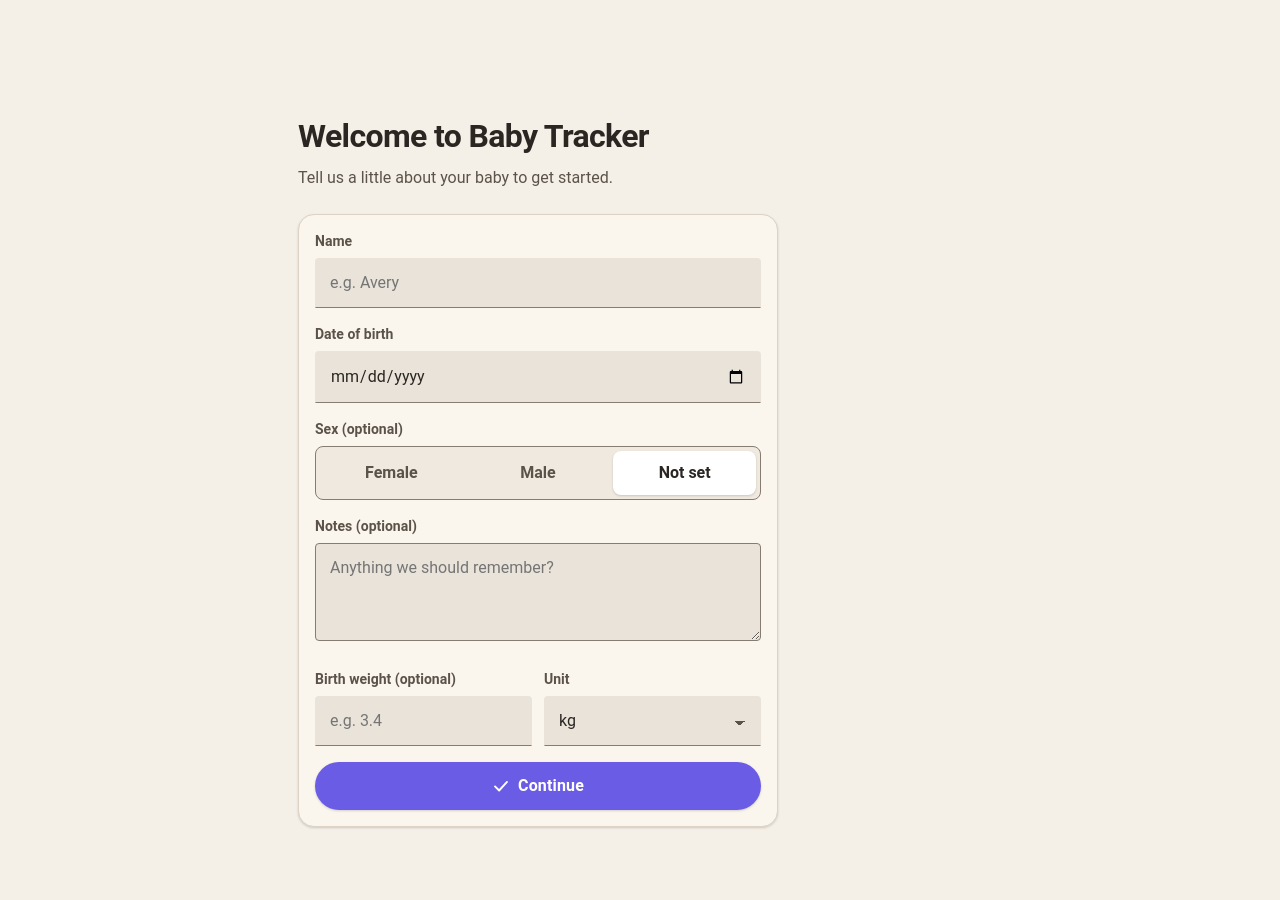
Physical back button › on-screen sub-screen back arrow matches physical back
Type "Avery" into the field labelled "Name".
click(538, 283); type("Avery")  # box [315,258,761,308]
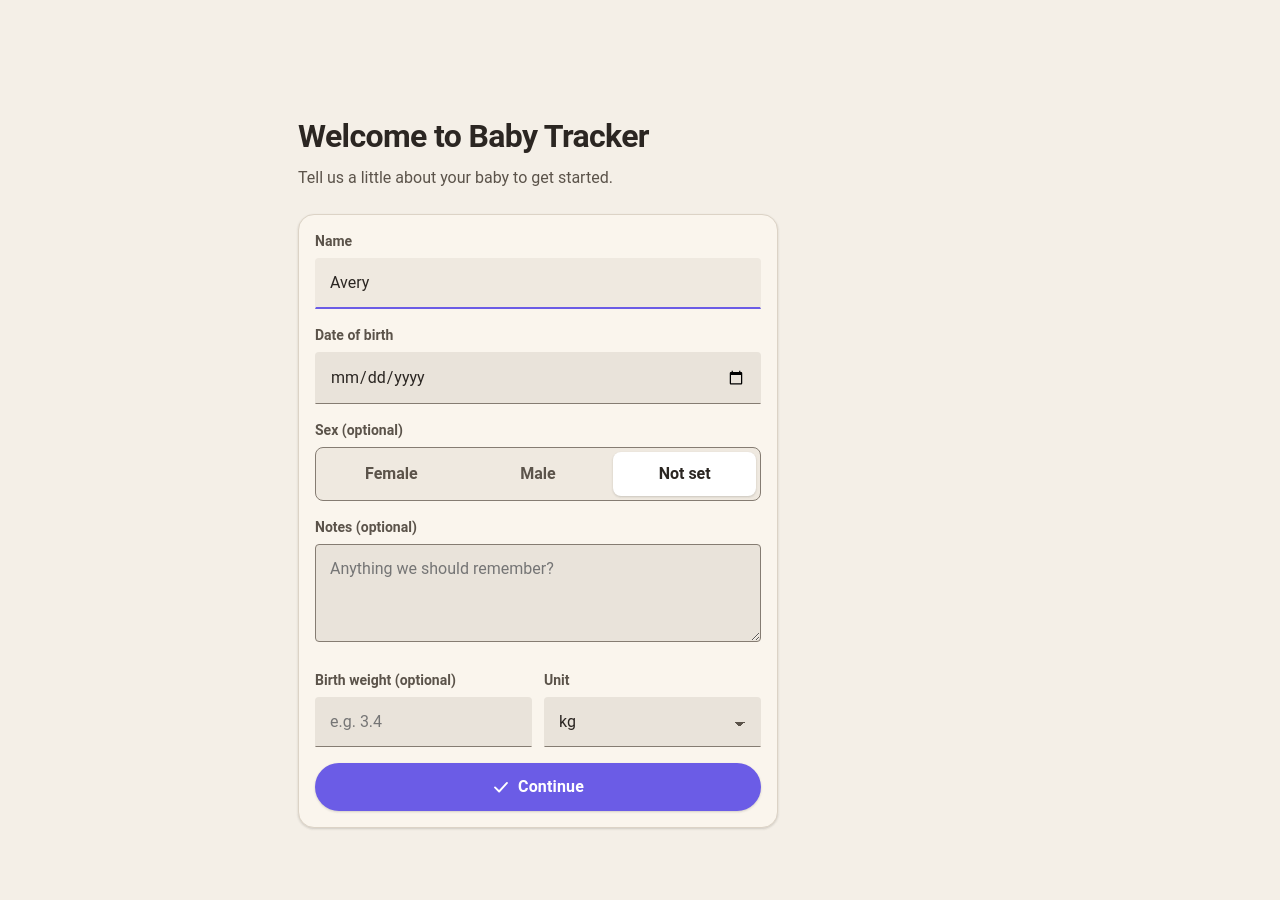
Type "2026-01-15" into the date field labelled "Date of birth".
click(538, 378); type("2026-01-15")  # box [315,352,761,404]
Click the button "Continue".
click(538, 787)  # box [315,763,761,811]
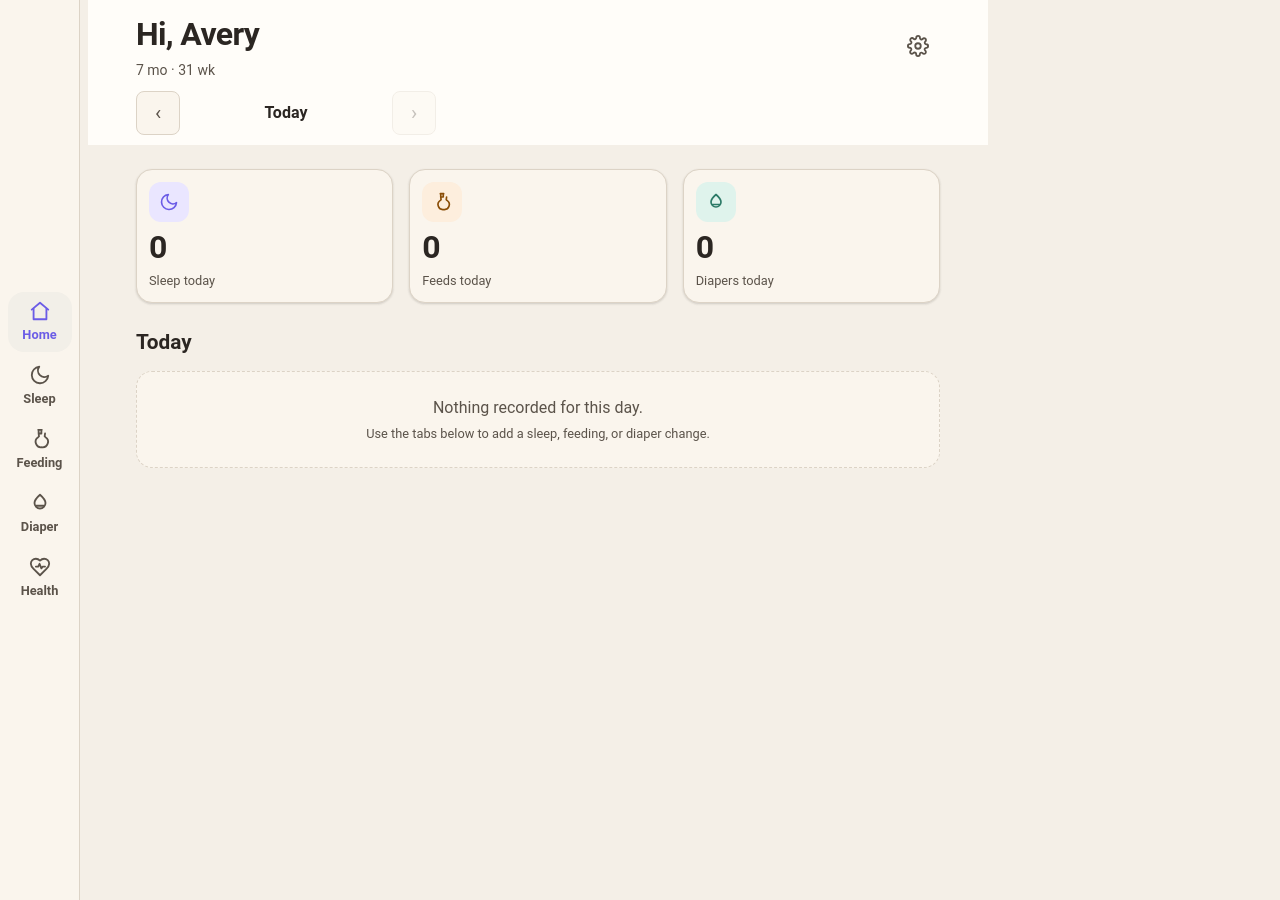
Click the button named "settings".
click(918, 46)  # box [896,24,940,68]
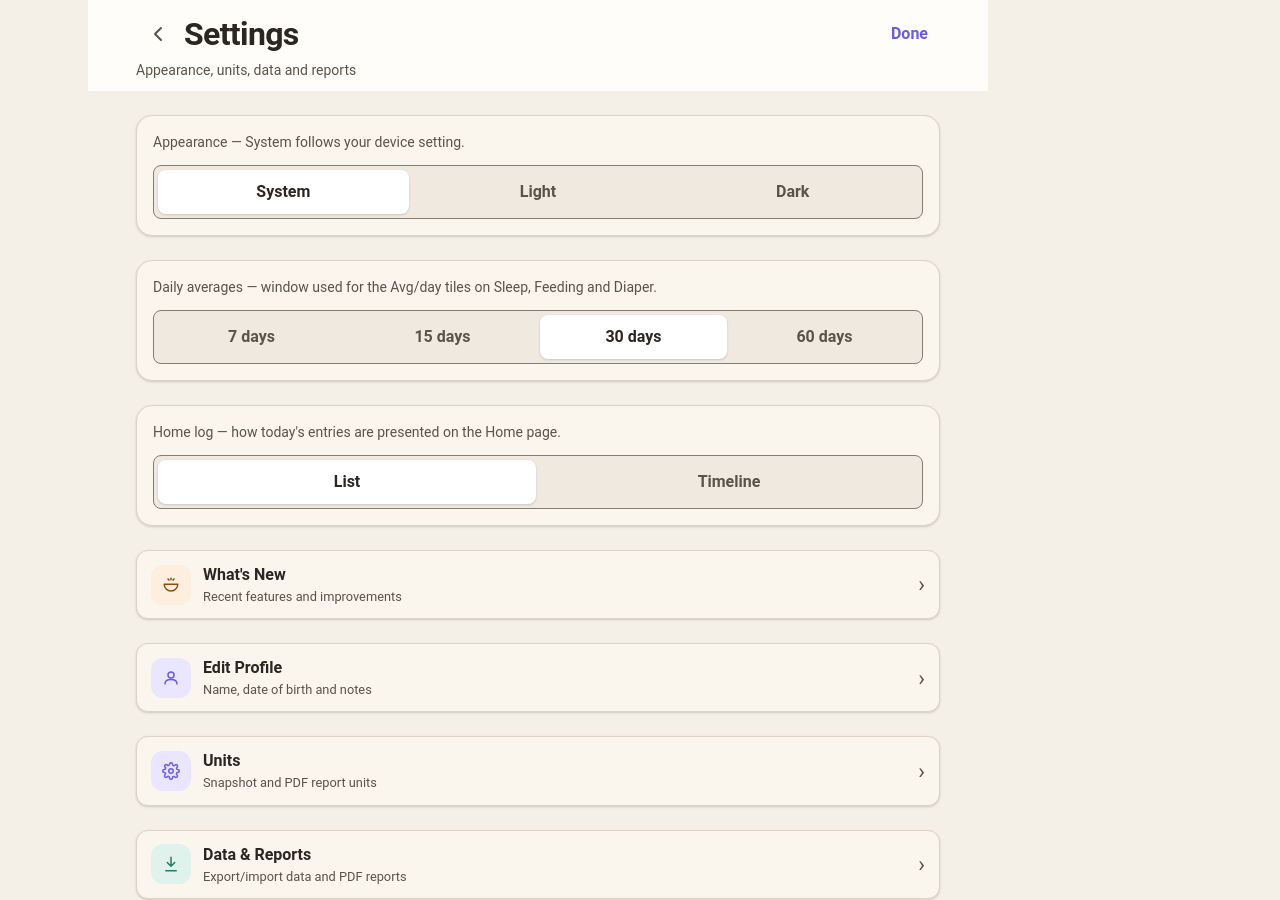
Click the button "Data & reports Export/import data and PDF reports ›".
click(171, 864)  # box [136,830,940,899]
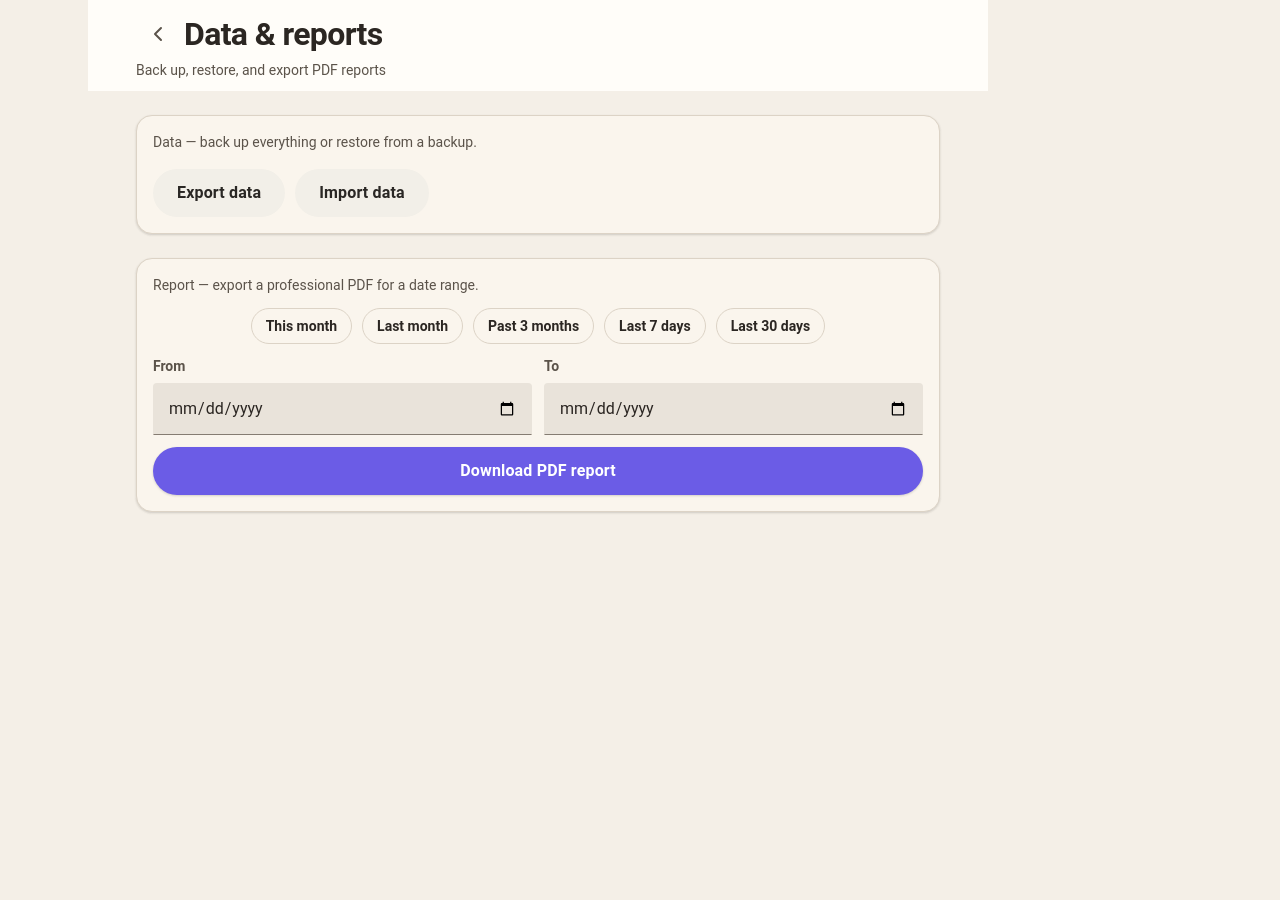
Now the heading "Data & reports" is shown, box [184,10,382,58]
Click the button named "back".
click(158, 34)  # box [136,12,180,56]
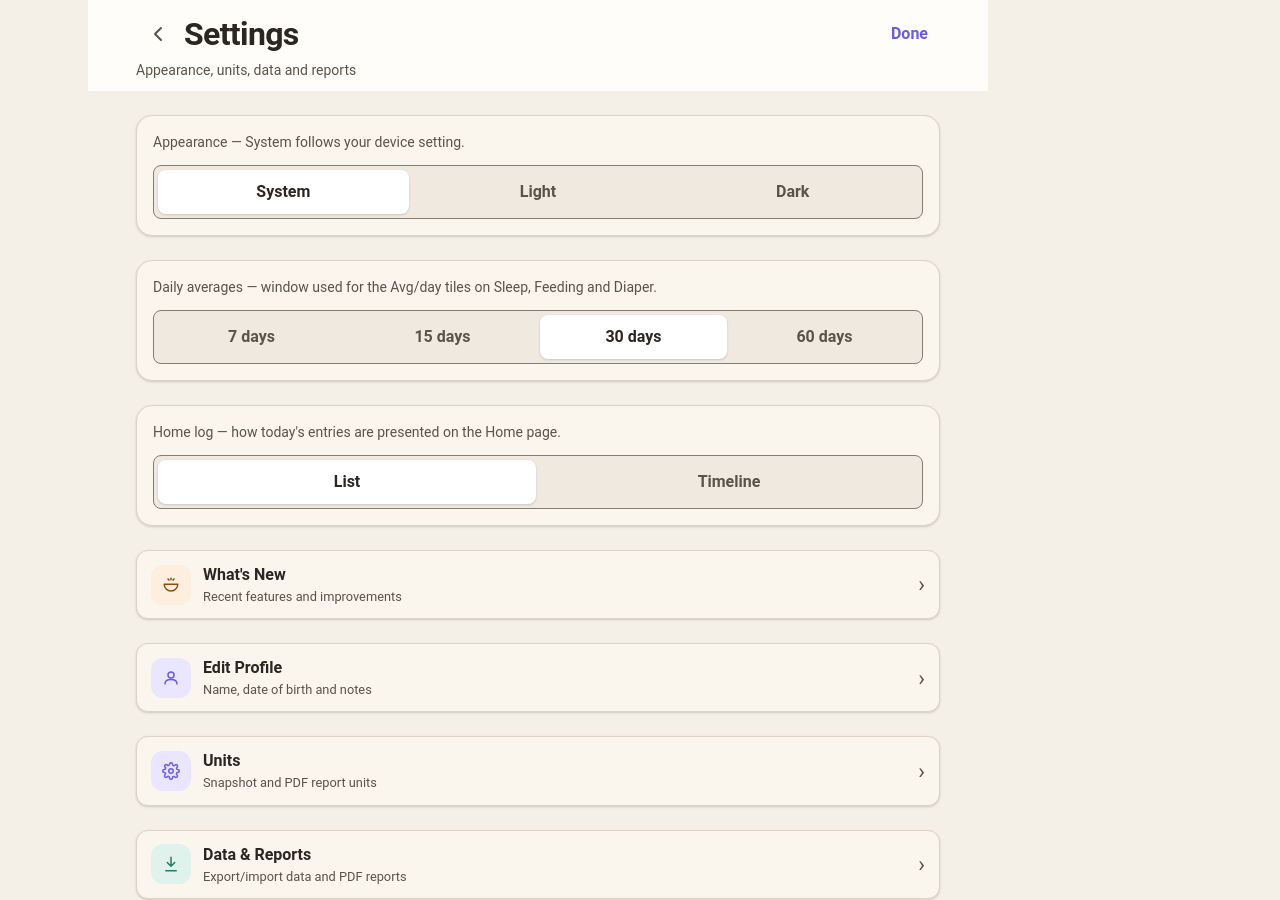
Now the heading "Settings" is shown, box [184,10,299,58]
Click the button "Done".
click(909, 34)  # box [879,12,940,56]
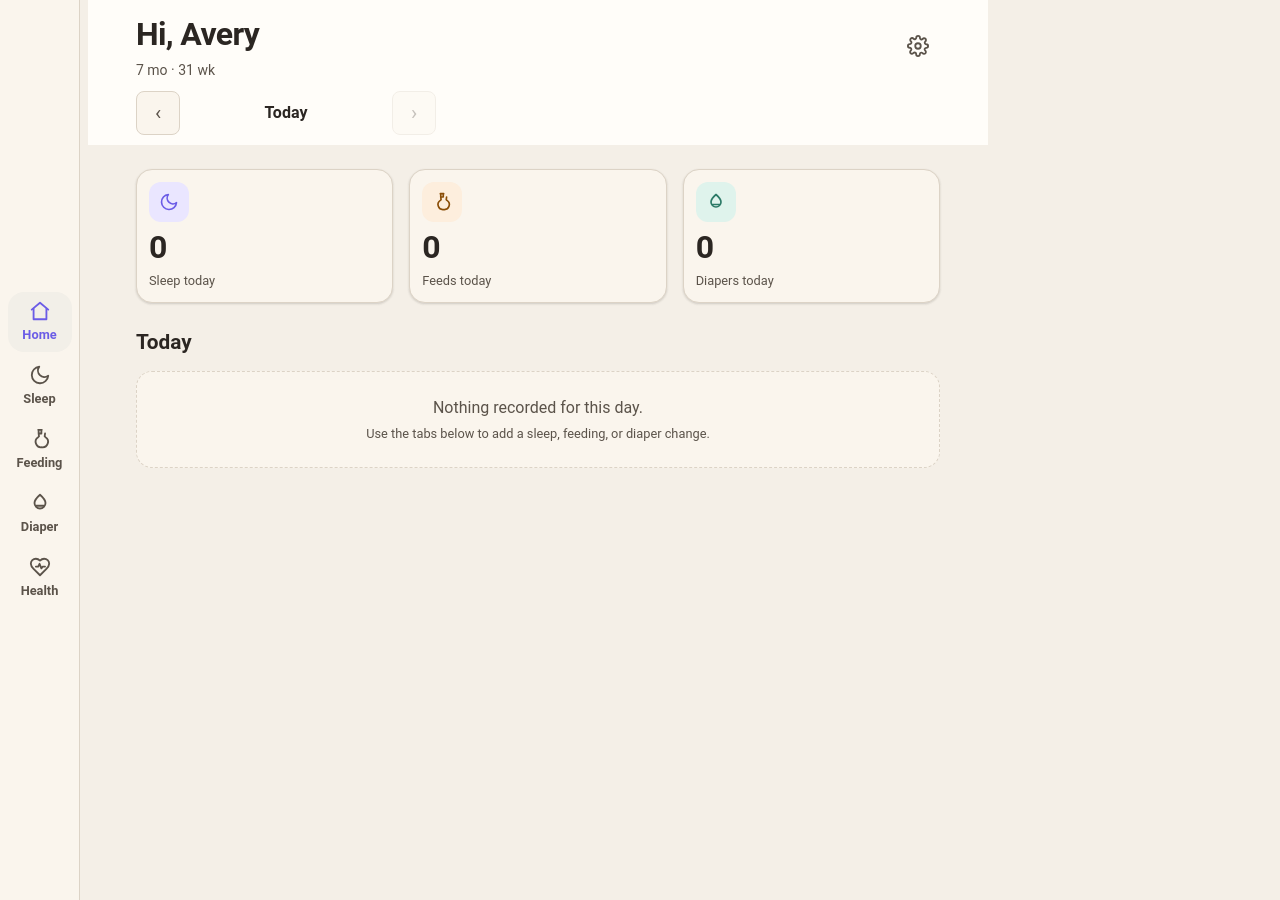
Now the heading "Hi, Avery" is shown, box [136,10,259,58]
